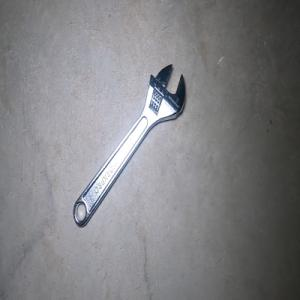Wrench: (73, 63, 185, 227)
